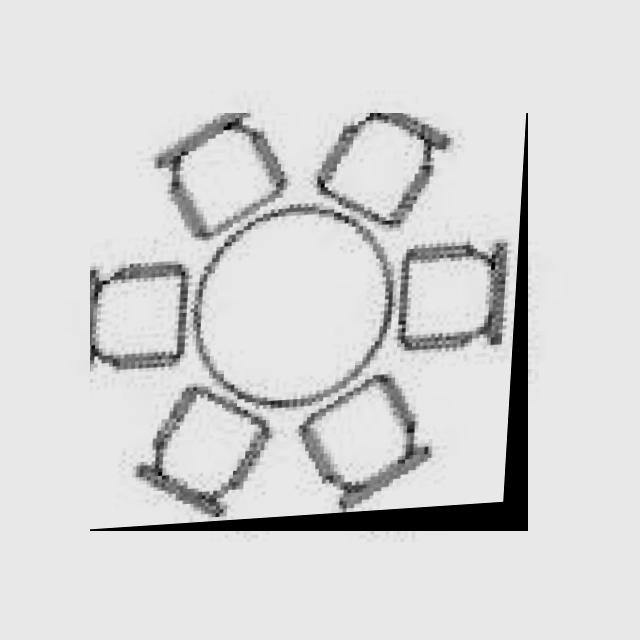table: (90, 113, 528, 531)
